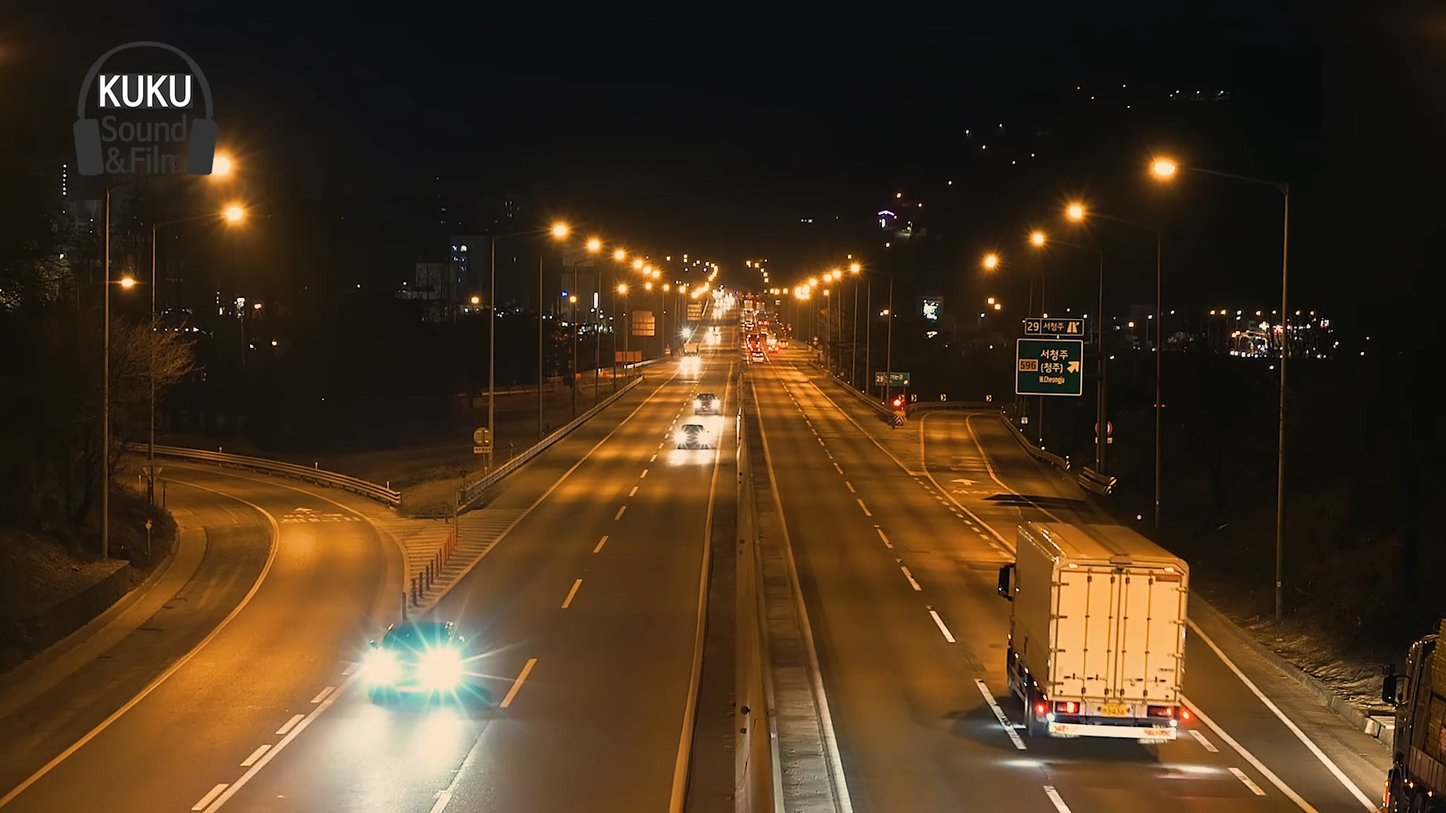car: (378, 618, 462, 713), (678, 427, 713, 454)
truck: (1001, 521, 1196, 745)
